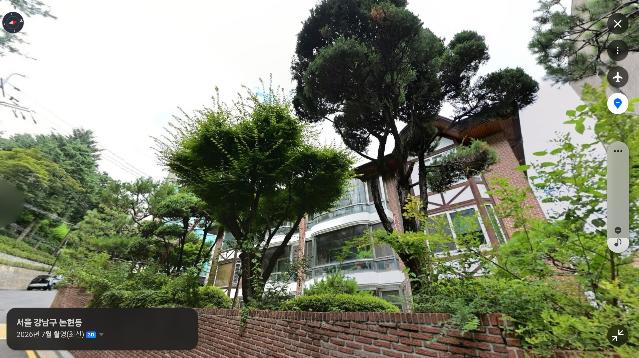other: (289, 0, 542, 297), (147, 73, 361, 310), (481, 86, 639, 335), (526, 0, 639, 102), (125, 190, 223, 291), (76, 173, 163, 282)
